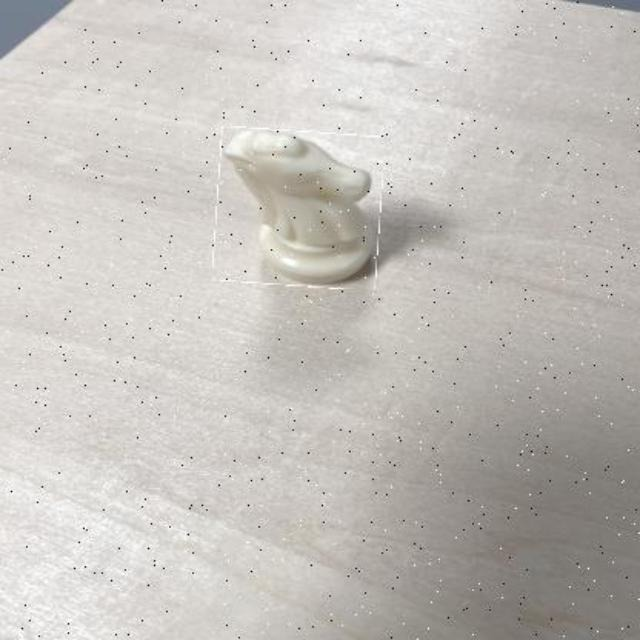white-knight: (214, 129, 381, 289)
